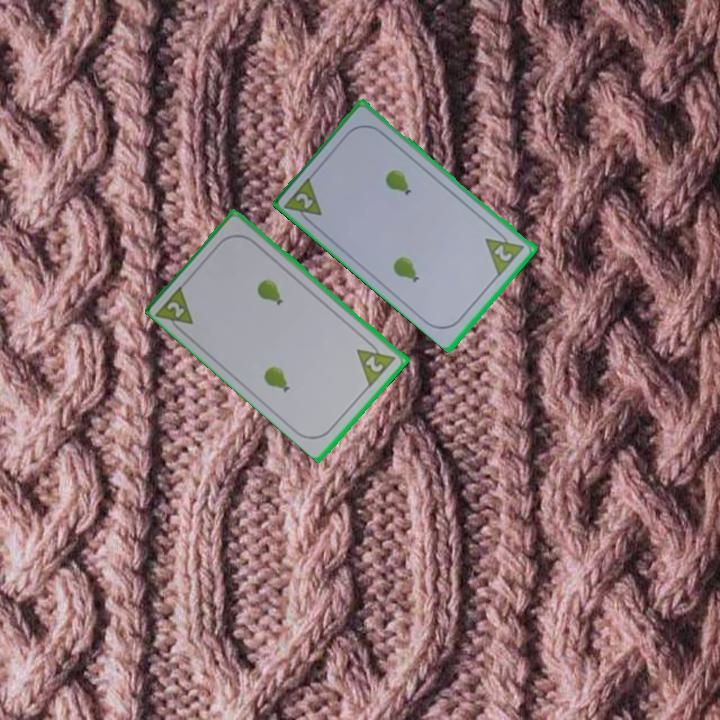2p: (153, 280, 197, 338), (353, 335, 399, 389), (282, 173, 326, 229), (491, 241, 516, 264)
